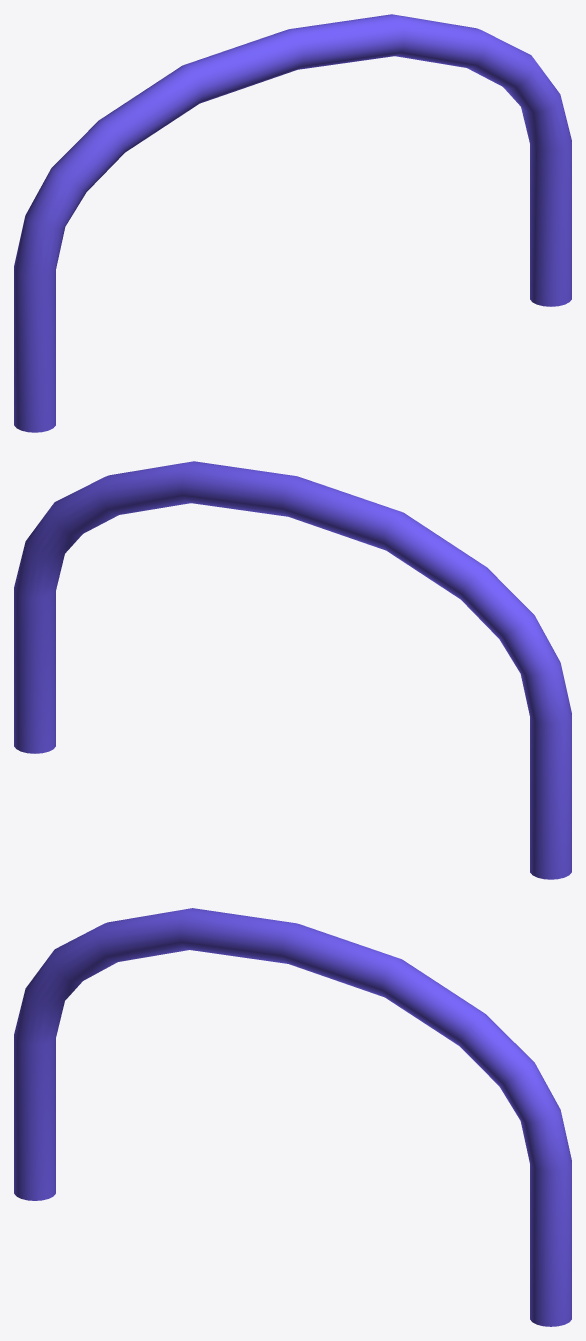
The model's file is Archway 1.FBX.
The picture shows the model from 3 angles, top to bottom: view 1: azimuth 30°, elevation 25°; view 2: azimuth 150°, elevation 25°; view 3: azimuth 330°, elevation 25°; orthographic projection.
Visible parts, largest first — view 1: Cylinder003; view 2: Cylinder003; view 3: Cylinder003.
Part boxes in pixels (x1,y1,x2,y2): Cylinder003: (14, 14, 571, 432); Cylinder003: (14, 461, 571, 879); Cylinder003: (14, 908, 571, 1326).
Size of the model in its own units: 7.46 by 4.26 by 0.4914.
